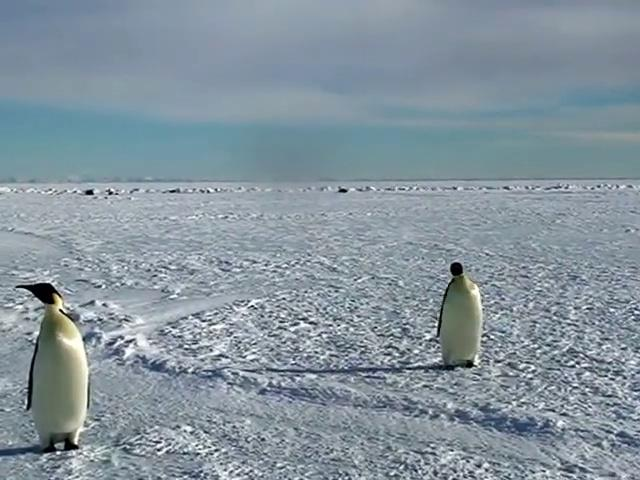animal: (16, 283, 88, 451)
